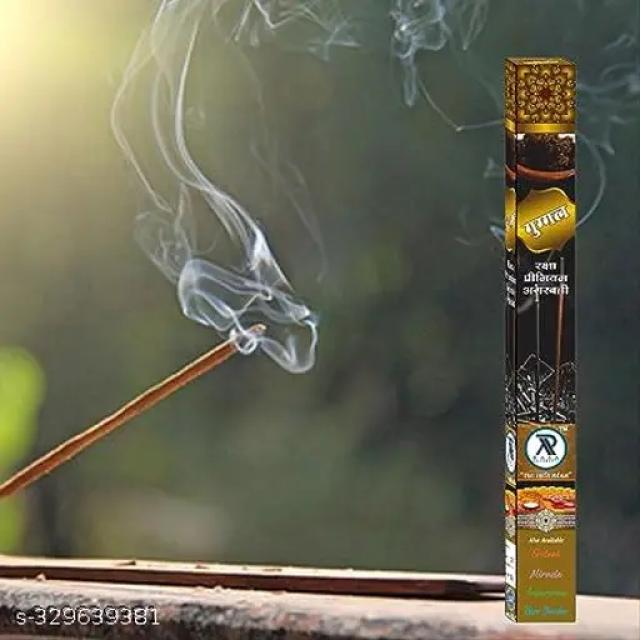Agarbatti: (0, 318, 306, 513)
